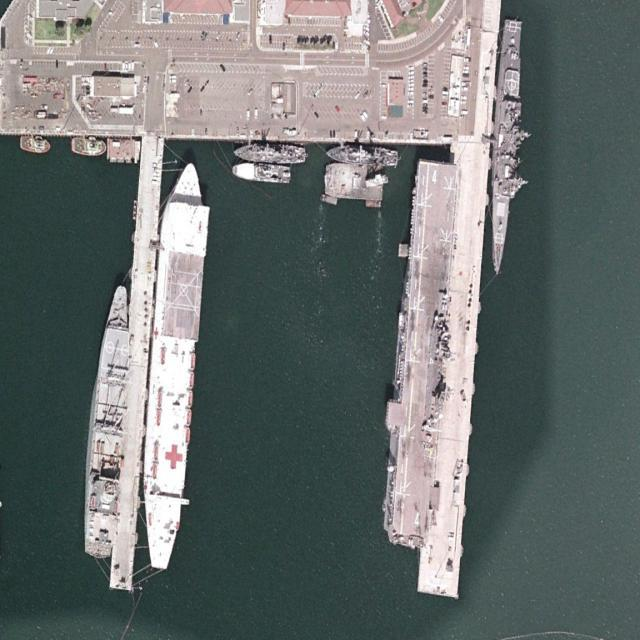Auxiliary Ships: (135, 158, 213, 571)
Cruiser: (483, 17, 529, 278)
Hovercraft: (18, 133, 52, 155), (70, 136, 106, 156)
Landing: (373, 155, 463, 552)
Other Ship: (76, 279, 138, 560), (325, 142, 399, 167)
Other Warship: (233, 143, 306, 163), (231, 162, 291, 183)
